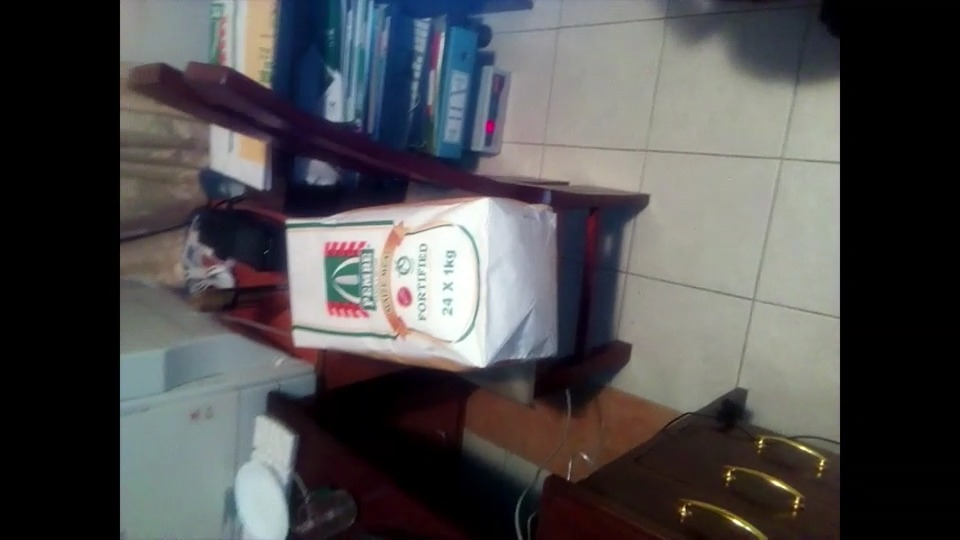maize_flour_green_label: (285, 188, 561, 365)
